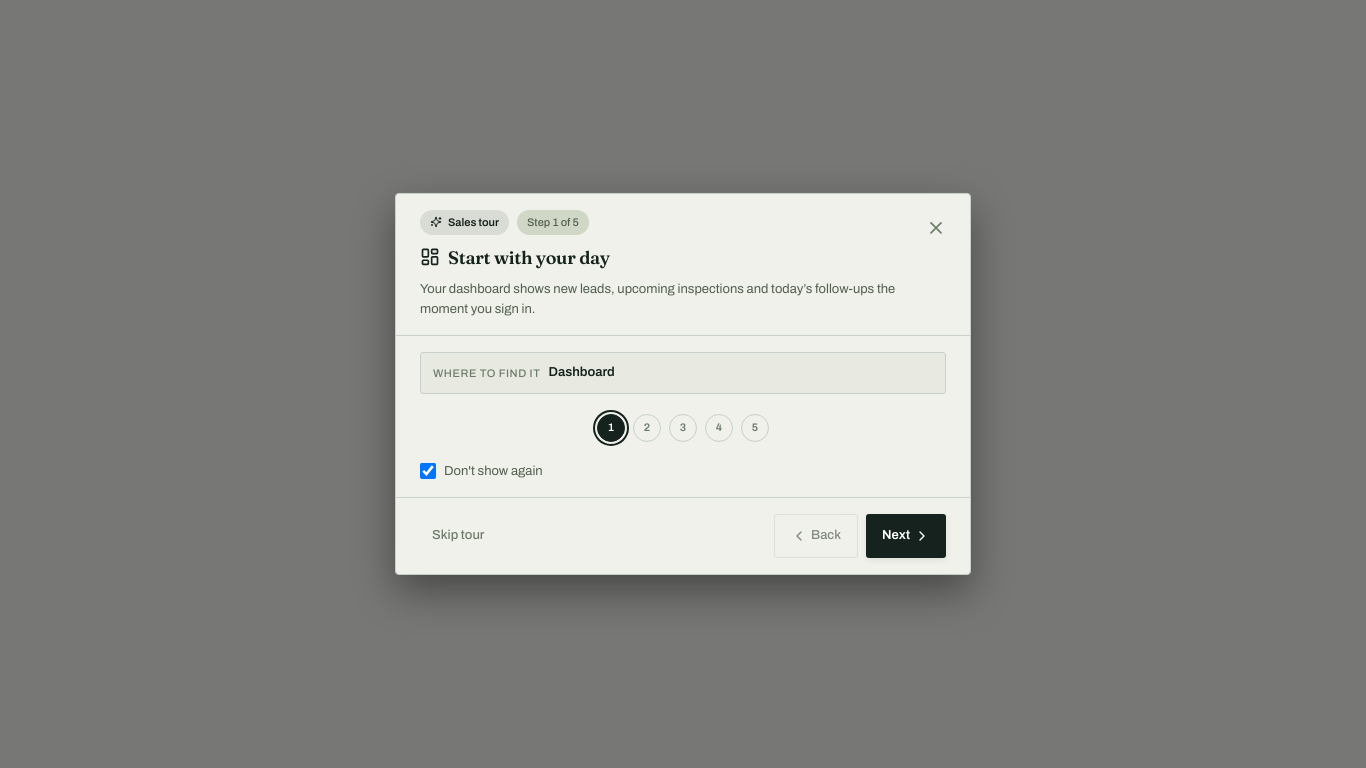
it: OnboardingTour › walks sales-specific steps and persists "Don’t show again" on finish
Later steps or results of the test are not shown.
Expected: the dialog is shown, [395,193,971,575]
What coordinates should you click on to do the following:
click the button "Next"
I would click on:
 (906, 536)
Its box is [866,514,946,558].
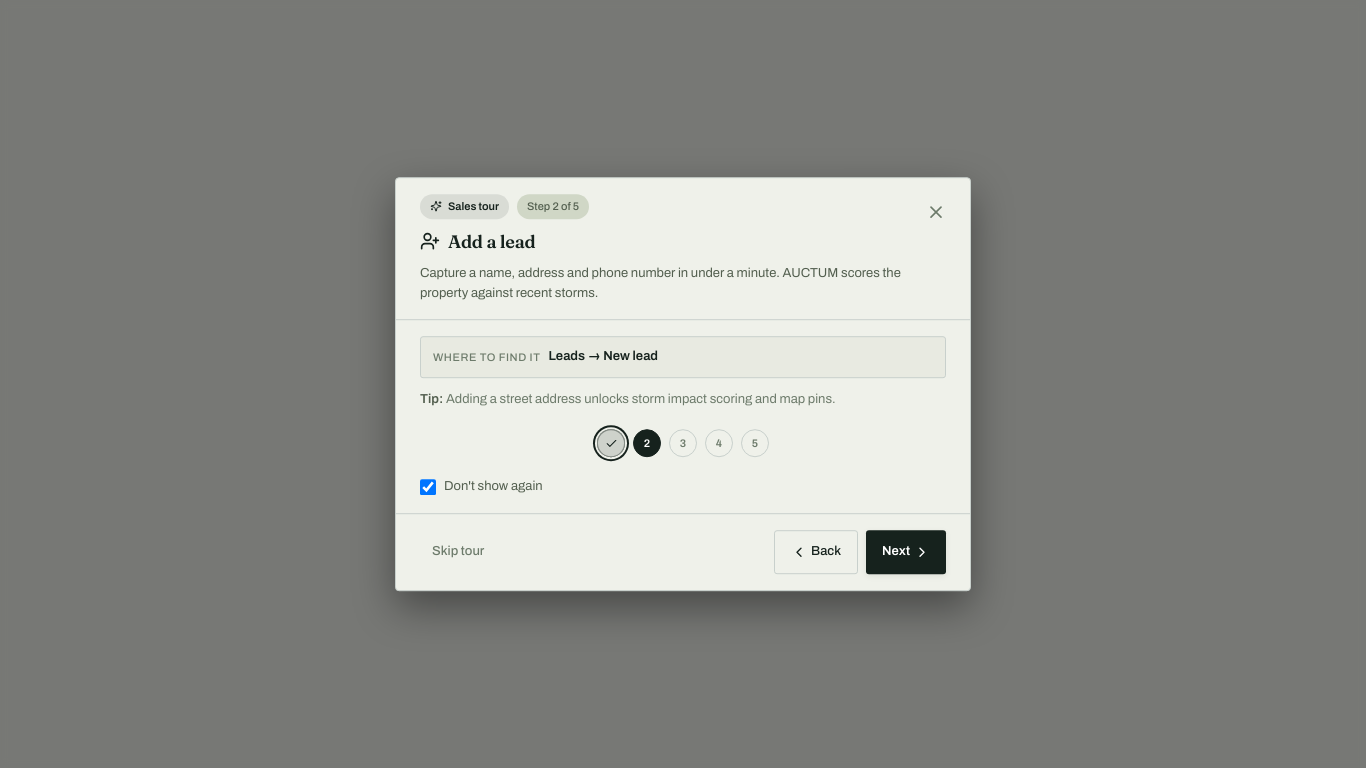
What coordinates should you click on to do the following:
click the button "Next"
I would click on:
 (906, 552)
Its box is [866,530,946,574].
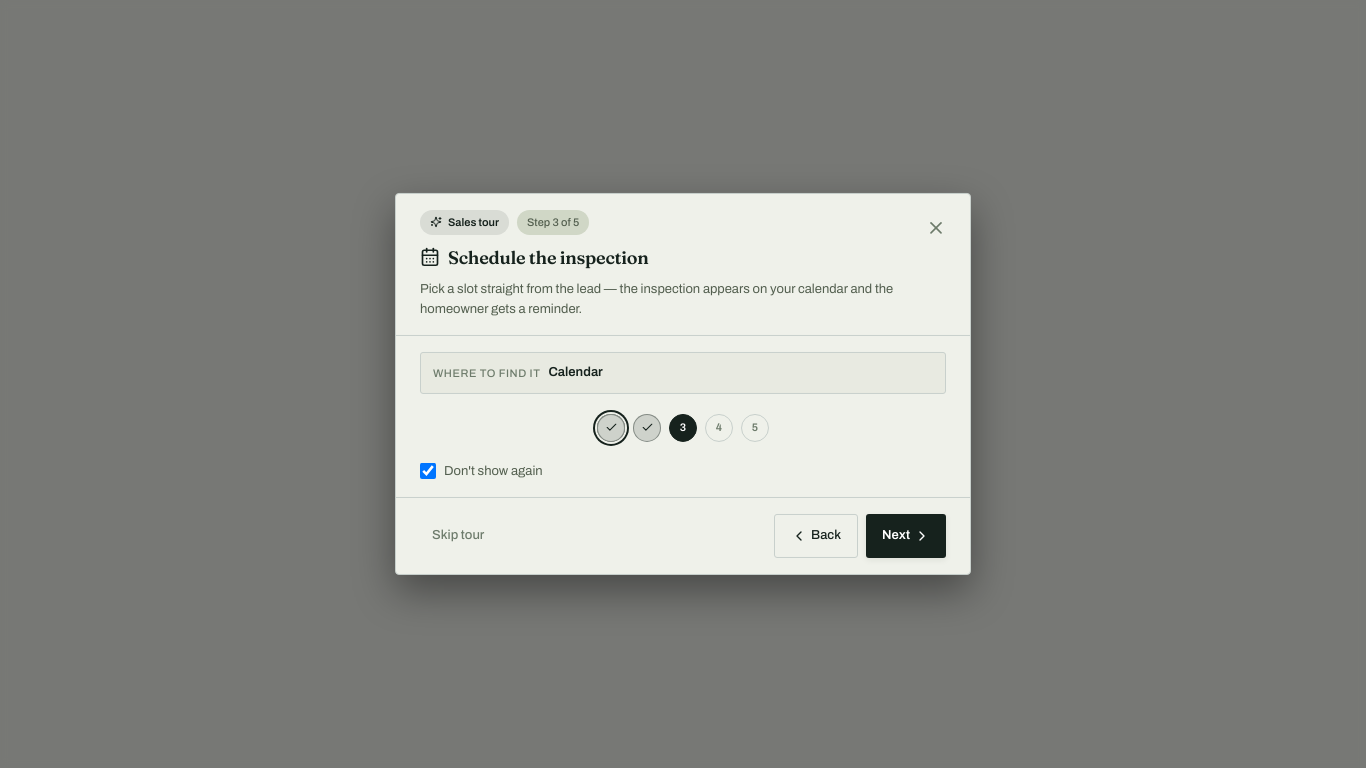
What coordinates should you click on to do the following:
click the button "Next"
I would click on:
 (906, 536)
Its box is [866,514,946,558].
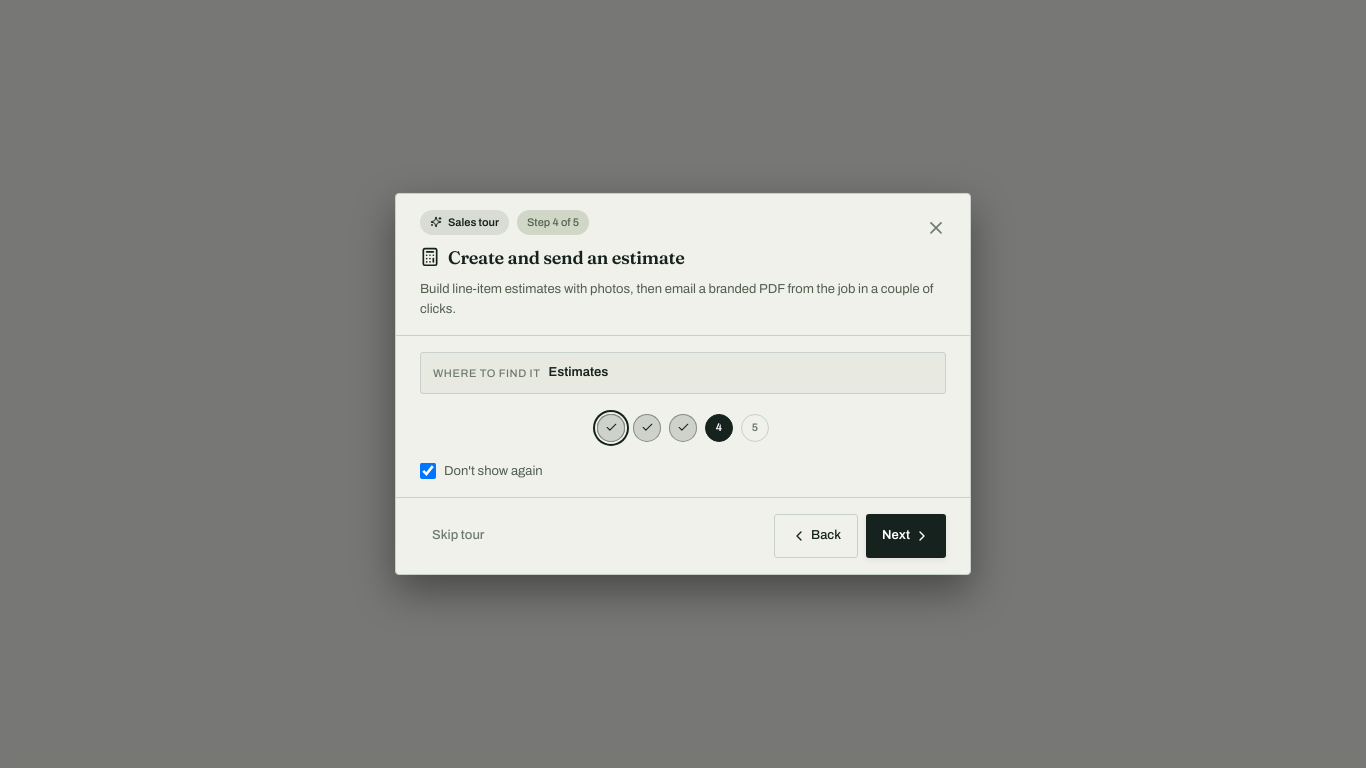
What coordinates should you click on to do the following:
click the button "Next"
I would click on:
 (906, 536)
Its box is [866,514,946,558].
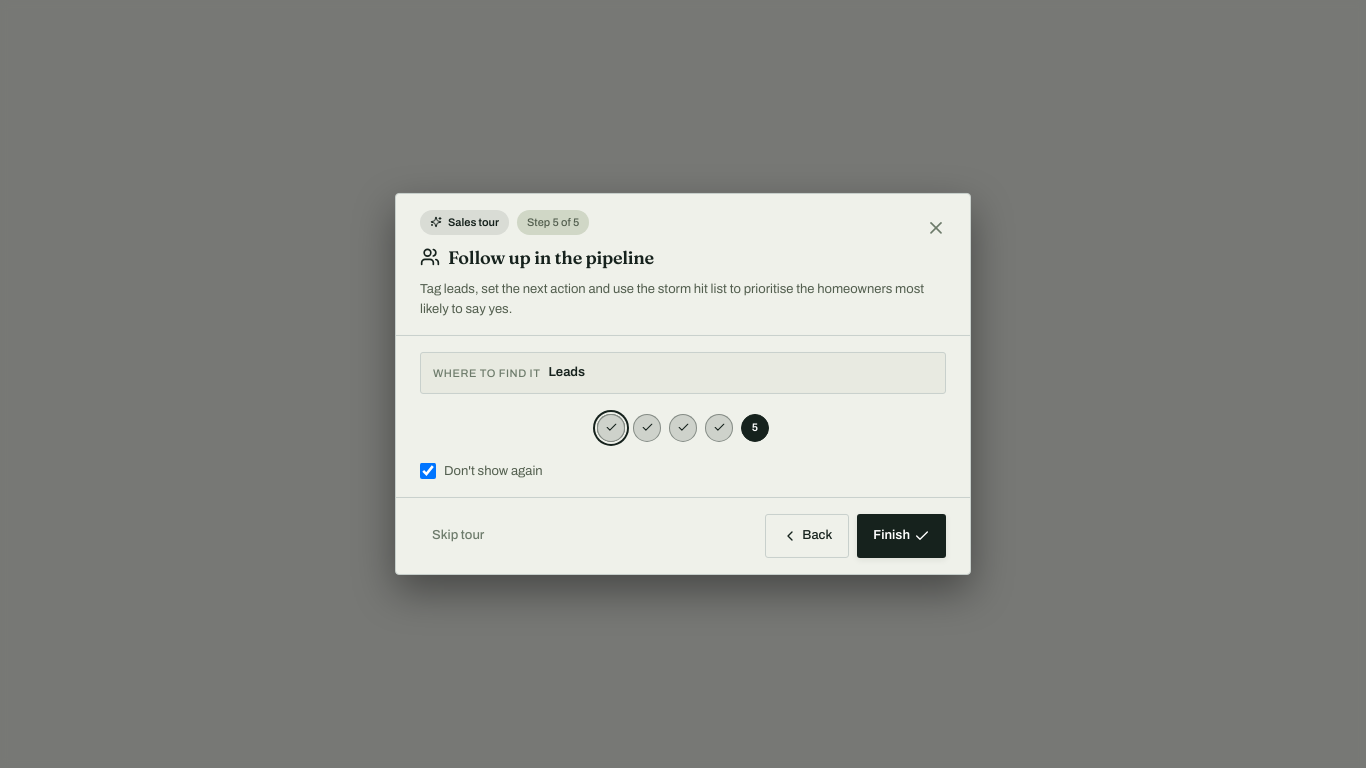
Now the button "Finish" is shown, box [857,514,946,558]
